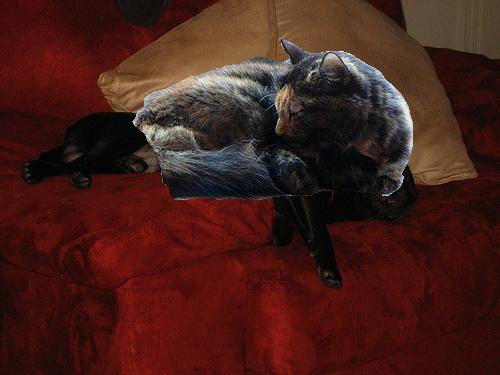tampered: (133, 40, 413, 200)
